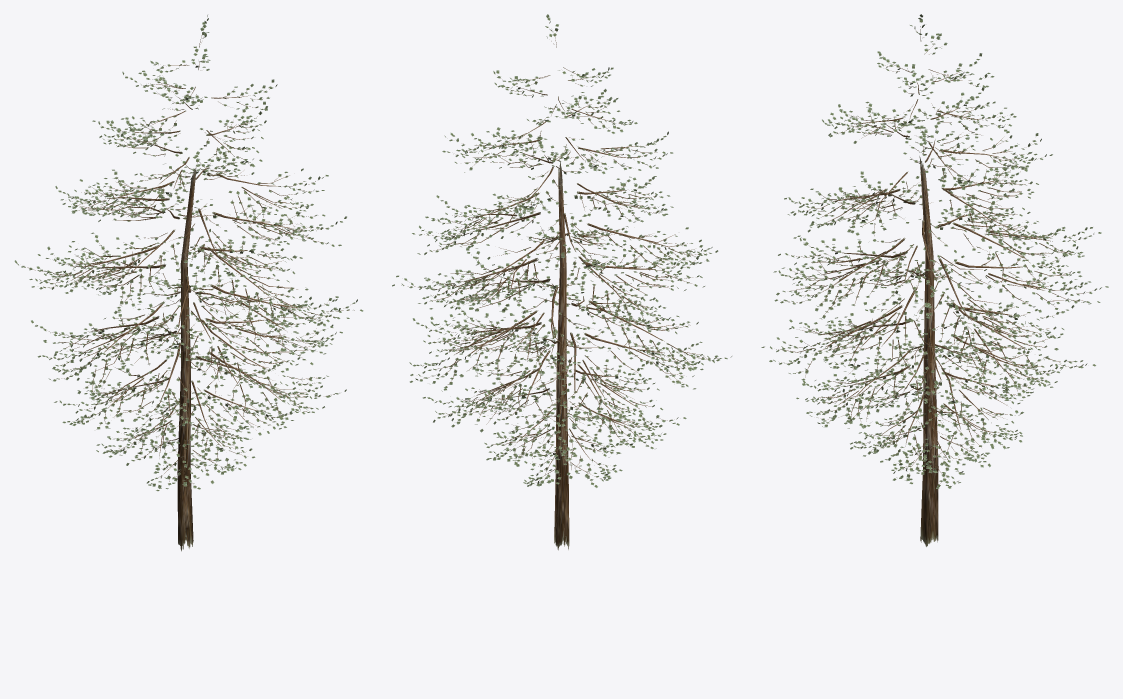
Rendered from tree.obj.
3 renders of one model, left to right at view 1: azimuth 30°, elevation 25°; view 2: azimuth 150°, elevation 25°; view 3: azimuth 270°, elevation 25°, orthographic. The views are drawn at different scales.
Parts seen in each view (by area): view 1: leaves.003, tree.003; view 2: leaves.003, tree.003; view 3: leaves.003, tree.003.
Boxes of the visible parts, box(x1,y1,x2,y2) form: leaves.003: box(14, 15, 363, 491); tree.003: box(27, 31, 354, 551); leaves.003: box(392, 14, 731, 487); tree.003: box(401, 30, 718, 550); leaves.003: box(761, 14, 1108, 488); tree.003: box(776, 22, 1088, 546).
Bounding box in the file's own units: 18.37 × 39.06 × 18.29.
Materials: 2 (2 with a texture image).
